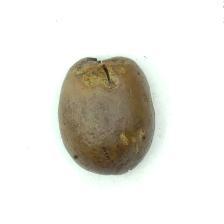NG: (74, 54, 149, 95)
